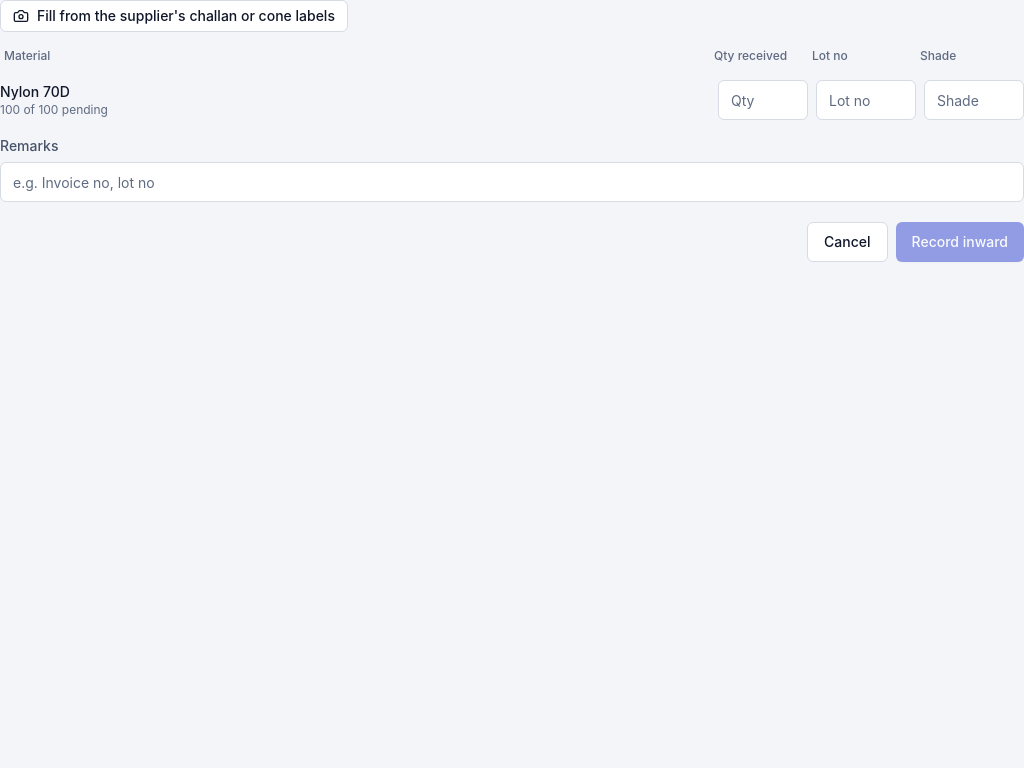
it: recording an inward that exceeds the order › keeps what was typed when the dialog is dismissed and reopened
Type "130" into the number field named "Quantity received for Nylon 70D". click: (763, 100)
box: [718, 80, 808, 120]
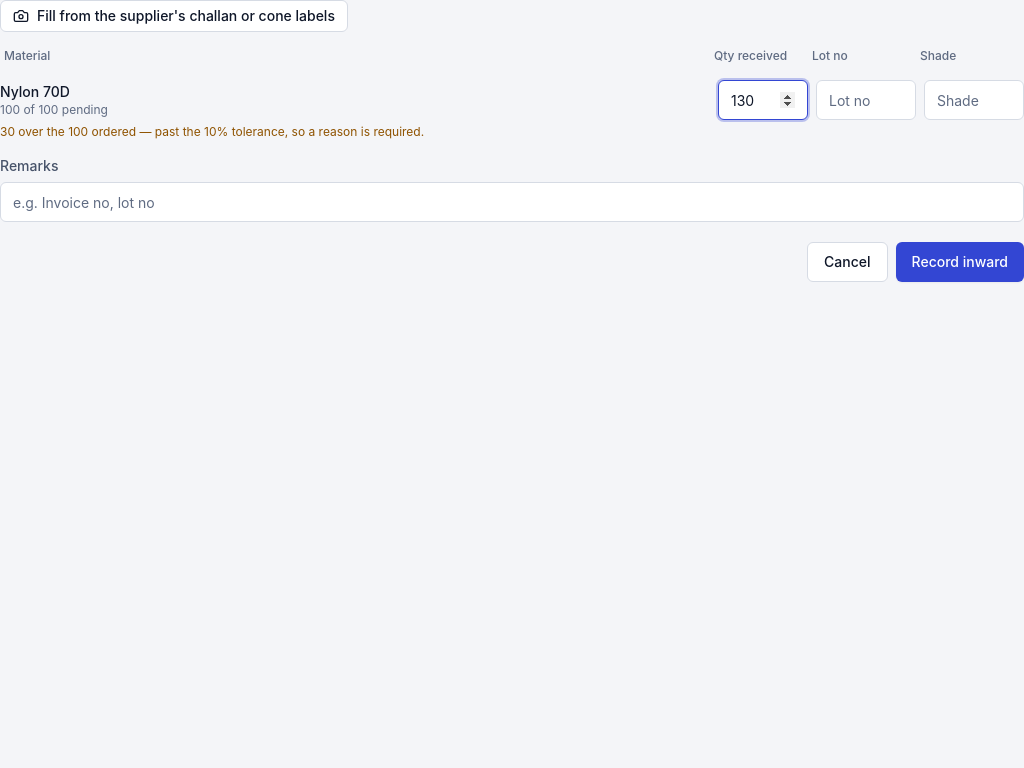
Click the button "Record inward". click: (960, 262)
box: [896, 242, 1023, 282]
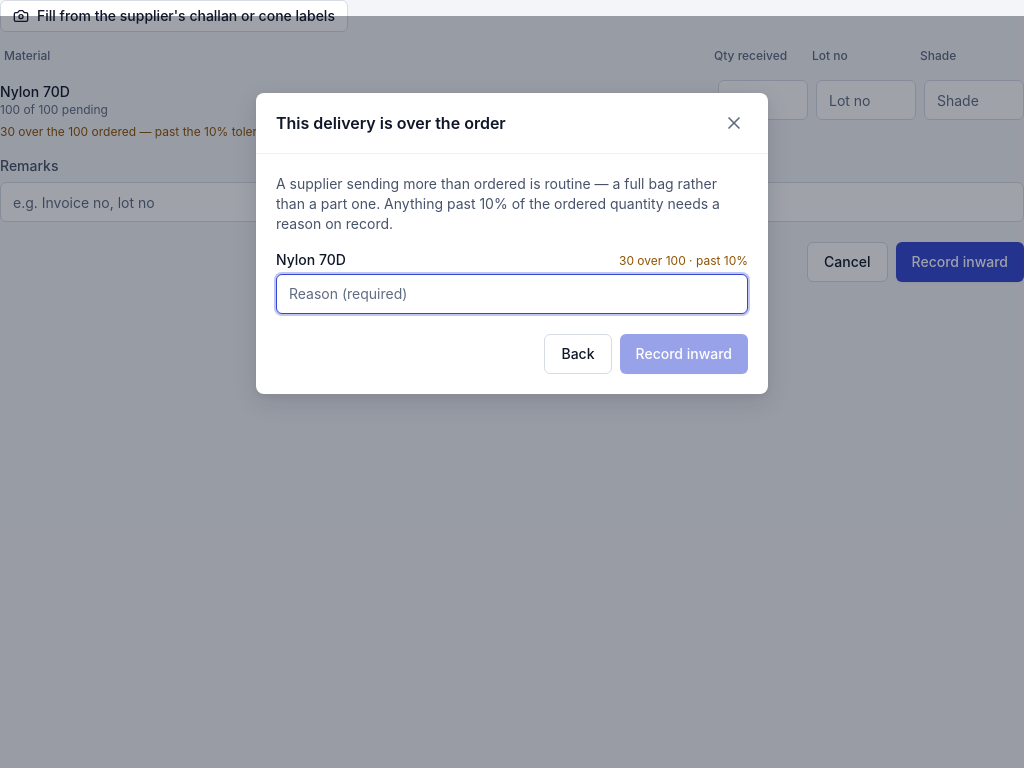
Type "Made up an earlier shortfall" into the field named "Reason for the excess on Nylon 70D". click: (512, 294)
box: [276, 274, 748, 314]
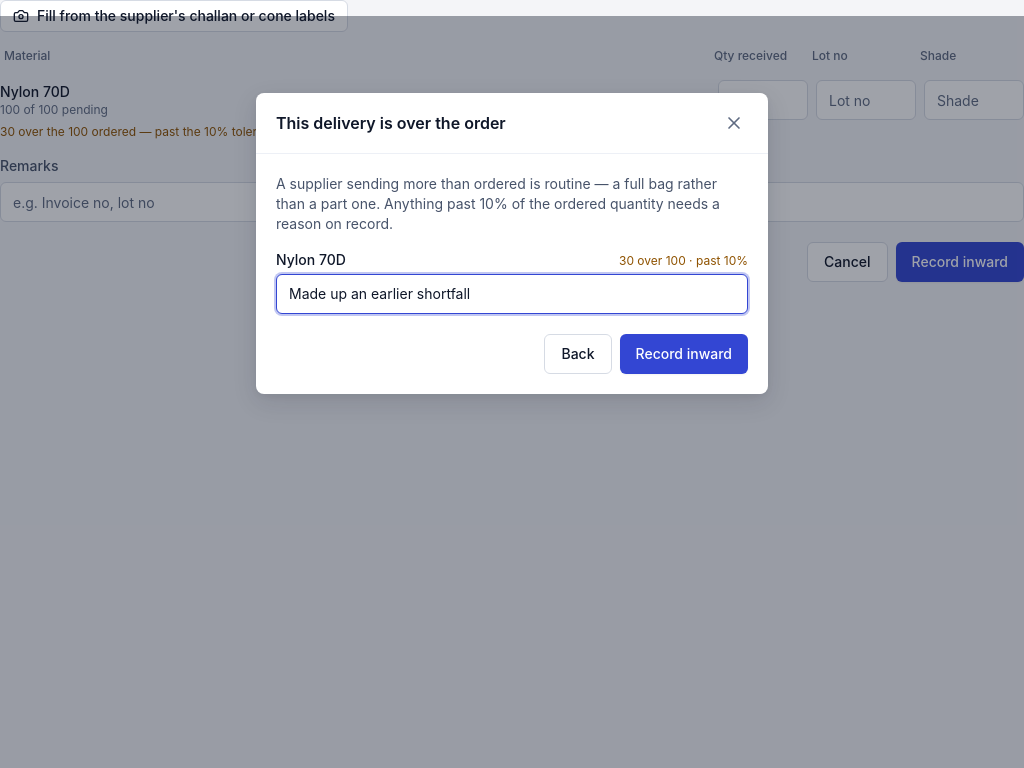
Click the button "Back". click: (578, 354)
box: [544, 334, 612, 374]
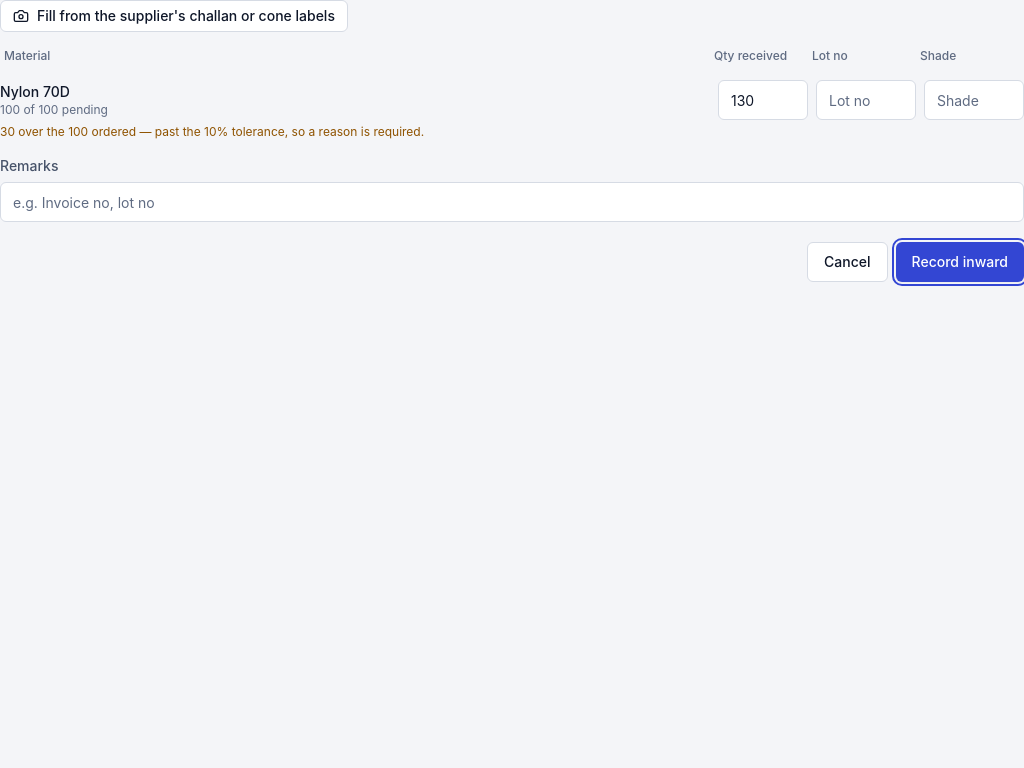
Click the button "Record inward". click: (960, 262)
box: [896, 242, 1023, 282]
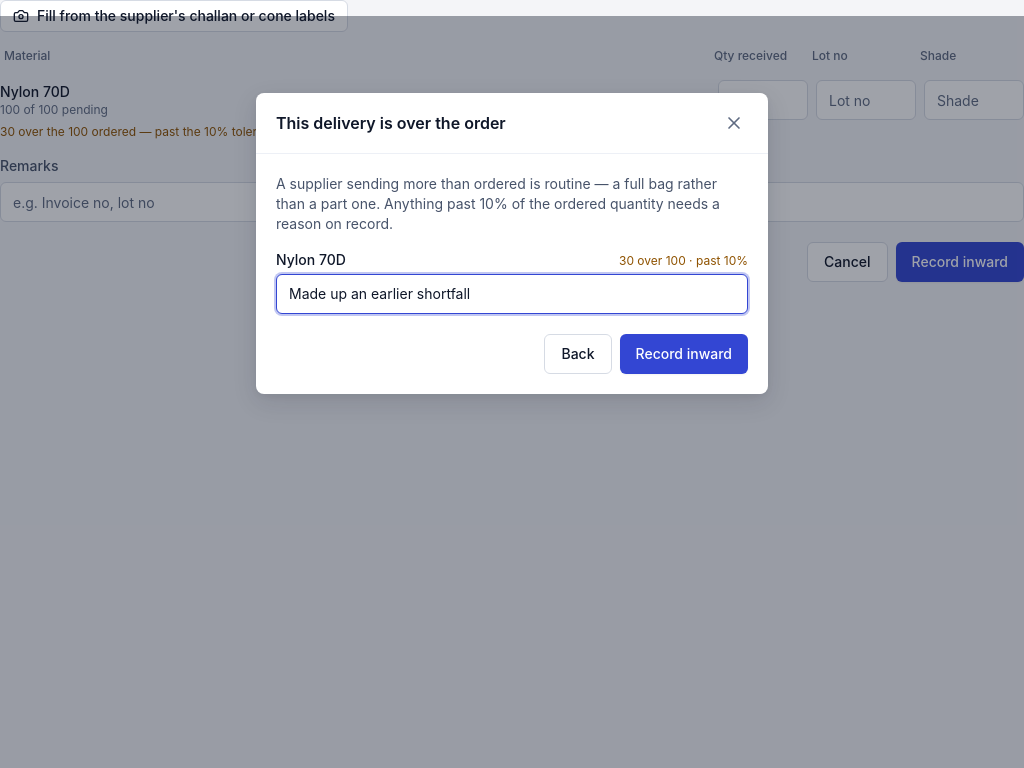
Expected: the field named "Reason for the excess on Nylon 70D" holds "Made up an earlier shortfall", [276, 274, 748, 314]
